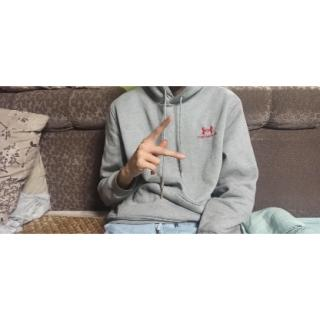DHAA: (132, 114, 191, 180)
